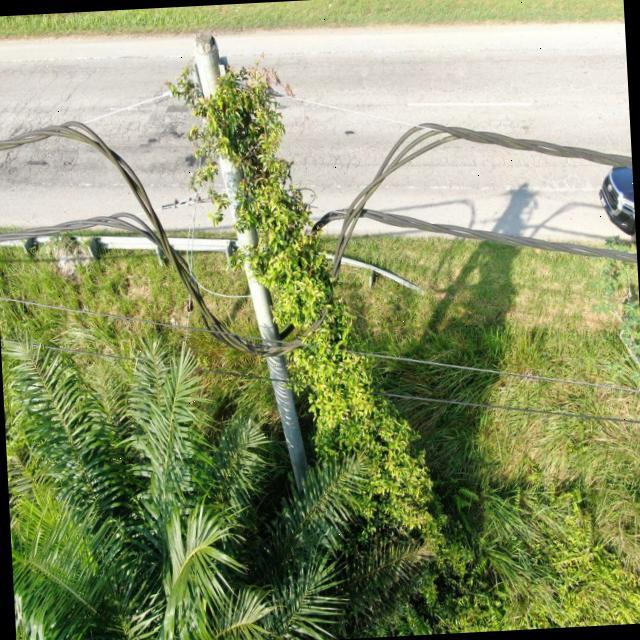critical vegetation: (169, 42, 444, 556)
